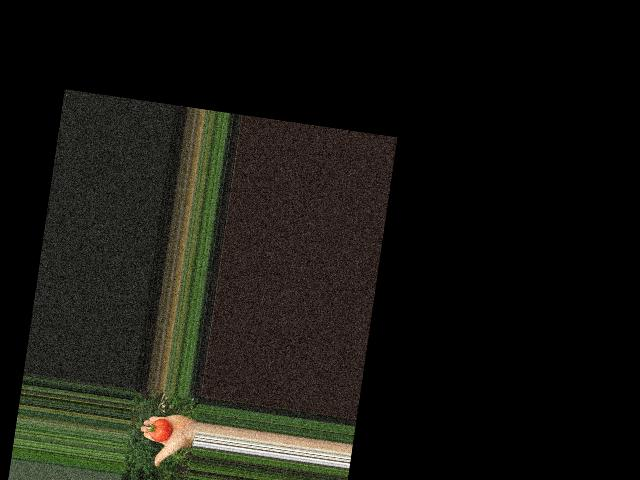tomato: (149, 416, 173, 443)
